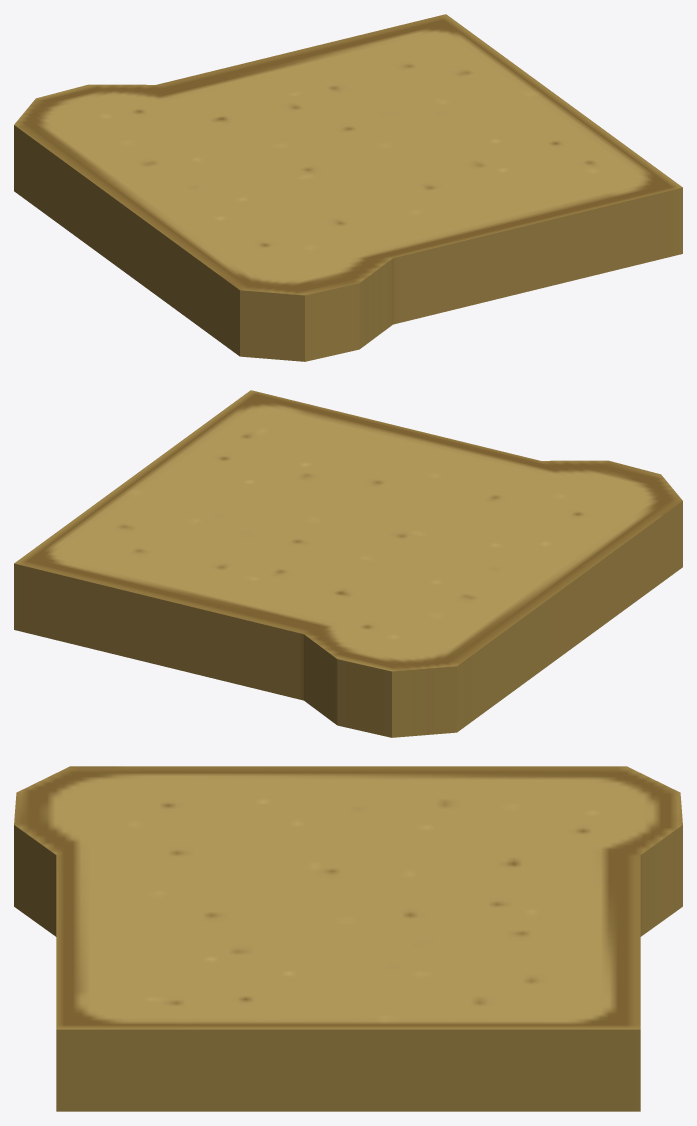
The model's file is Sandwich1.fbx.
3 renders of one model, top to bottom at view 1: azimuth 30°, elevation 25°; view 2: azimuth 150°, elevation 25°; view 3: azimuth 270°, elevation 25°, orthographic. The views are drawn at different scales.
Visible parts, largest first — view 1: pCube25; view 2: pCube25; view 3: pCube25.
Part boxes in pixels (x1=…): pCube25: x1=14, y1=14, x2=682, y2=361; pCube25: x1=14, y1=390, x2=682, y2=737; pCube25: x1=14, y1=766, x2=682, y2=1111.
Bounding box in the file's own units: 1 × 0.1449 × 1.07.
